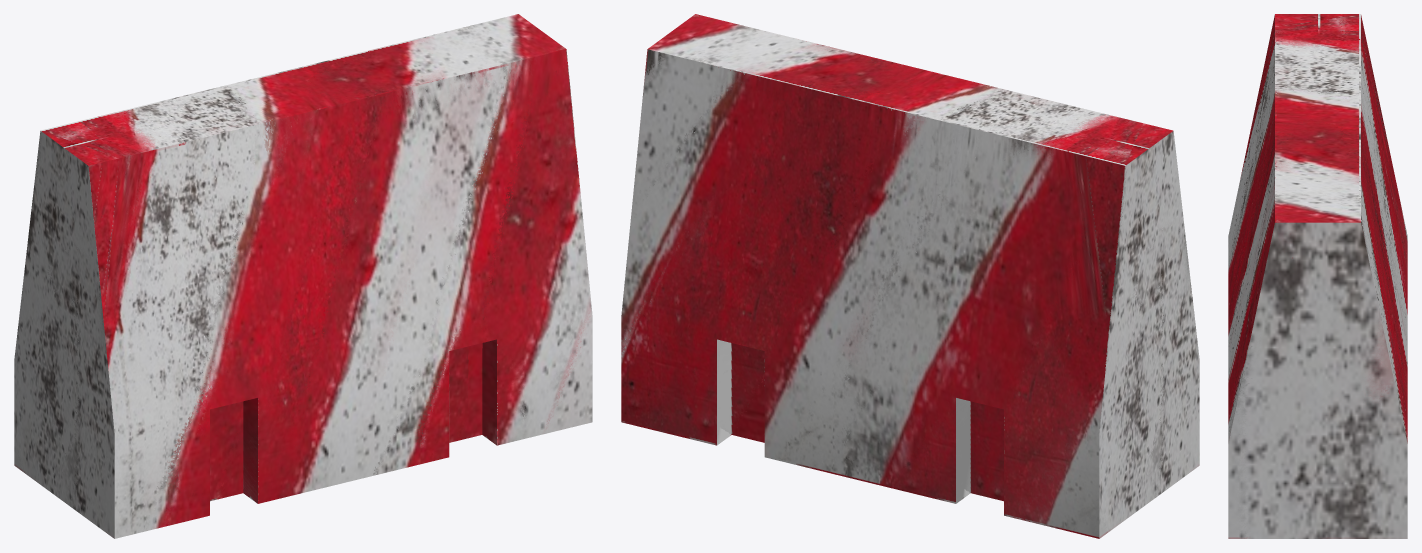
File: Barrier.fbx
The picture shows the model from 3 angles, left to right: view 1: azimuth 30°, elevation 25°; view 2: azimuth 150°, elevation 25°; view 3: azimuth 270°, elevation 25°; orthographic projection. The views are drawn at different scales.
Visible parts, largest first — view 1: pCube1; view 2: pCube1; view 3: pCube1.
Part boxes in pixels (x1=…): pCube1: x1=14, y1=14, x2=592, y2=538; pCube1: x1=621, y1=14, x2=1199, y2=538; pCube1: x1=1228, y1=14, x2=1407, y2=538.
Bounding box in the file's own units: 143 × 101 × 51.97.
Materials: 1 (1 with a texture image).
